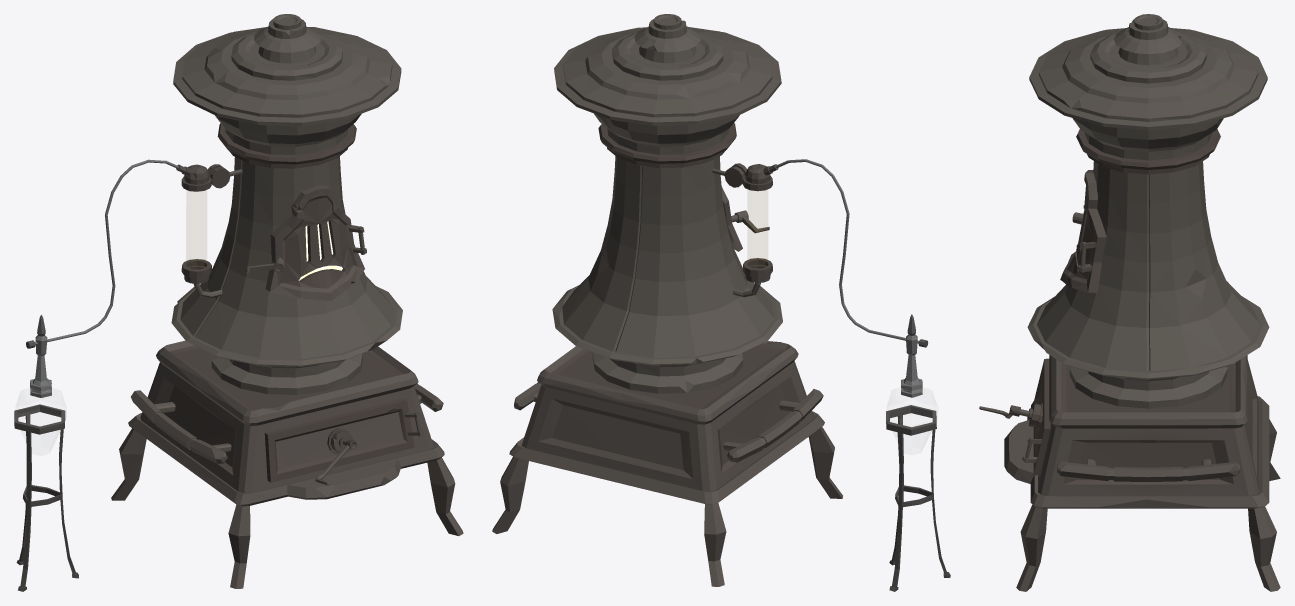
The model's file is SFHW_Alchemy_Kit_002.fbx.
3 renders of one model, left to right at view 1: azimuth 30°, elevation 25°; view 2: azimuth 150°, elevation 25°; view 3: azimuth 270°, elevation 25°, orthographic. The views are drawn at different scales.
Visible parts, largest first — view 1: SFHW_Alchemy_Kit_002; view 2: SFHW_Alchemy_Kit_002; view 3: SFHW_Alchemy_Kit_002.
Part boxes in pixels (<box>): SFHW_Alchemy_Kit_002: <box>14,14,463,591</box>; SFHW_Alchemy_Kit_002: <box>492,14,950,591</box>; SFHW_Alchemy_Kit_002: <box>979,14,1280,591</box>.
Size of the model in its own units: 199 by 241 by 128.
